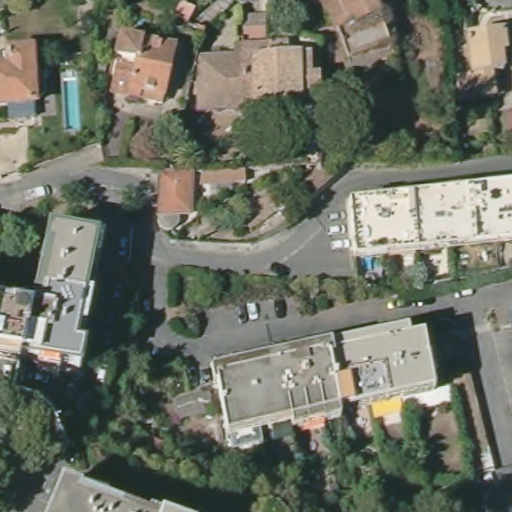pool: (61, 72, 87, 133)
